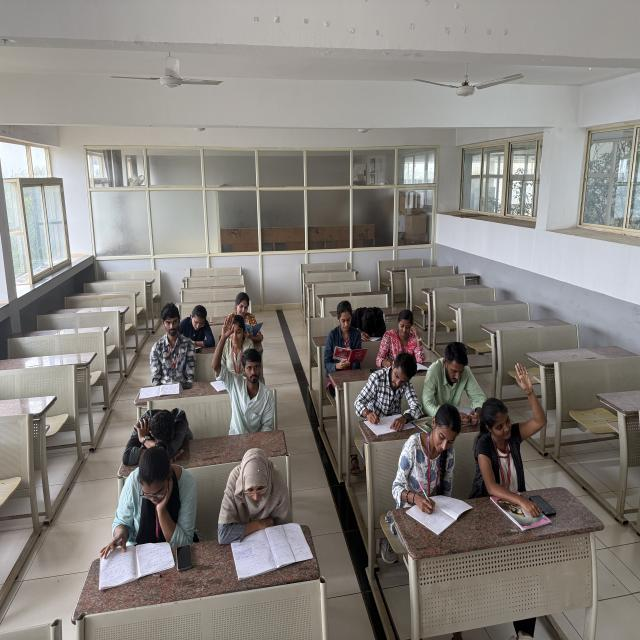Hand Rising: (476, 361, 550, 490), (212, 310, 280, 438)
Reading: (102, 454, 192, 590), (218, 446, 315, 568), (422, 334, 473, 430), (145, 304, 194, 397), (322, 301, 363, 371), (228, 292, 268, 343)
Sleeping: (122, 402, 198, 466), (354, 303, 390, 342)
Writing: (394, 401, 474, 523), (353, 353, 424, 436), (180, 303, 218, 351)
